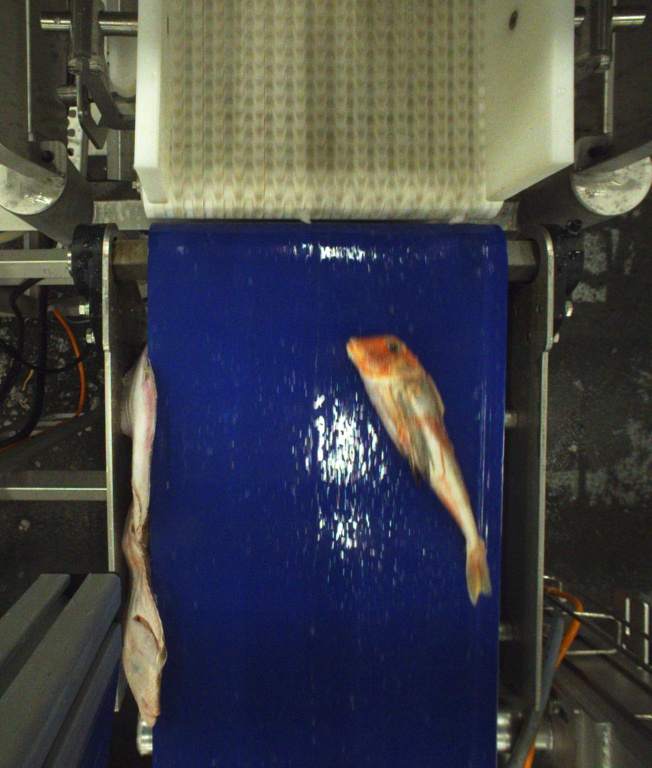GUU: (337, 335, 495, 603)
